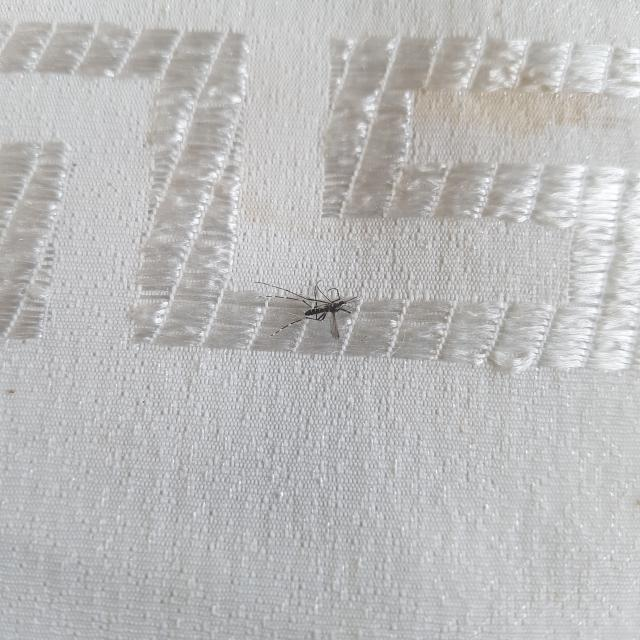albopictus: (254, 269, 364, 342)
